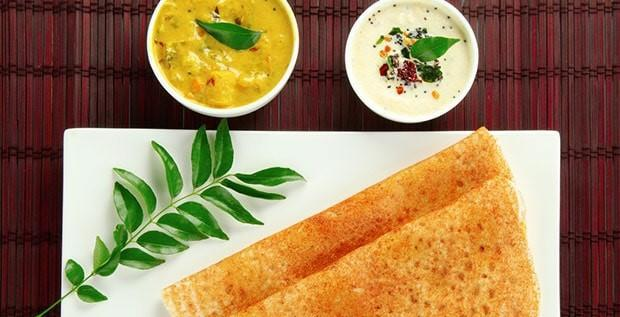CoconutChutney: (349, 0, 472, 117)
Dosa: (161, 127, 513, 317), (224, 172, 539, 317)
